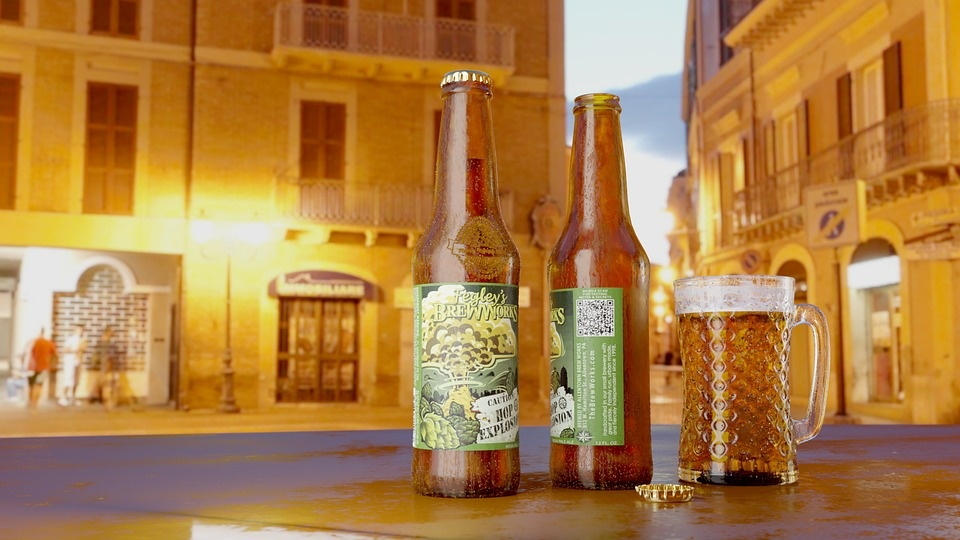beerBottle: (412, 70, 517, 496), (544, 95, 658, 484)
